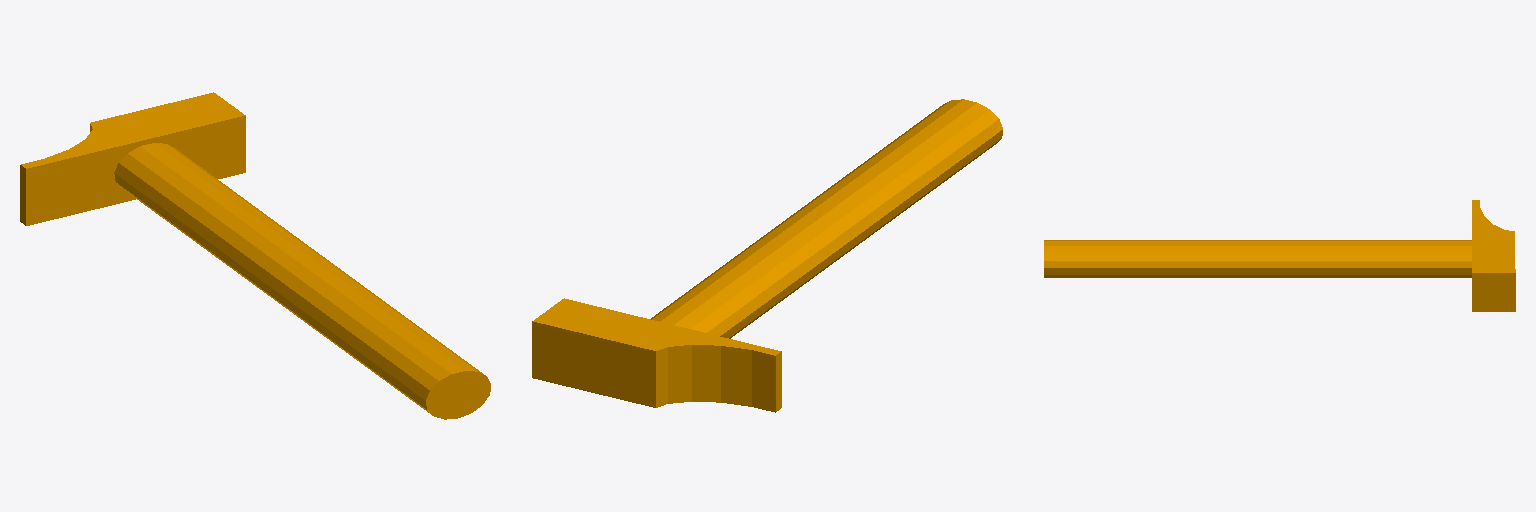
robot.urdf — hammer:
<?xml version="1.0" ?>
<robot name="hammer" xmlns:xacro="http://www.ros.org/wiki/xacro">
    <link name="hammer">
        <inertial>
            <origin rpy="0 0 0.0" xyz="-0.1 -0.1 0.2"/>
            <mass value="0.2"/>
            <inertia ixx="0.05" ixy="0" ixz="0" iyy="0.06" iyz="0" izz="0.03"/>
        </inertial>
        <visual>
            <origin rpy="0 0 0.0" xyz="-0.1 -0.1 0.2"/>
            <geometry>
                <mesh filename="package://kuka_gripper_description/meshes/hammer.obj"/>
            </geometry>
        </visual>
        <collision>
            <origin rpy="0 0 0.0" xyz="-0.1 -0.1 0.2"/>
            <geometry>
                <mesh filename="package://kuka_gripper_description/meshes/hammer.obj"/>
            </geometry>
        </collision>
    </link>
</robot>

--- What the picture shows (computed from the rendered views, not written in the file) ---
Views: 3 orthographic renders of the robot side by side, from view 1: azimuth 30°, elevation 25°; view 2: azimuth 150°, elevation 25°; view 3: azimuth 270°, elevation 25°.
Model hammer with 1 links and 0 joints (none), rooted at hammer, posed all joints at 0.
Links seen in each view (by area): view 1: hammer; view 2: hammer; view 3: hammer.
Boxes of the visible links, <box> form: hammer: <box>20,92,490,419</box>; hammer: <box>532,99,1002,412</box>; hammer: <box>1044,200,1515,311</box>.
Size in the robot's own frame: 0.1 by 0.271 by 0.025 metres.
1 mesh visuals loaded from 1 distinct referenced files (1 OBJ).